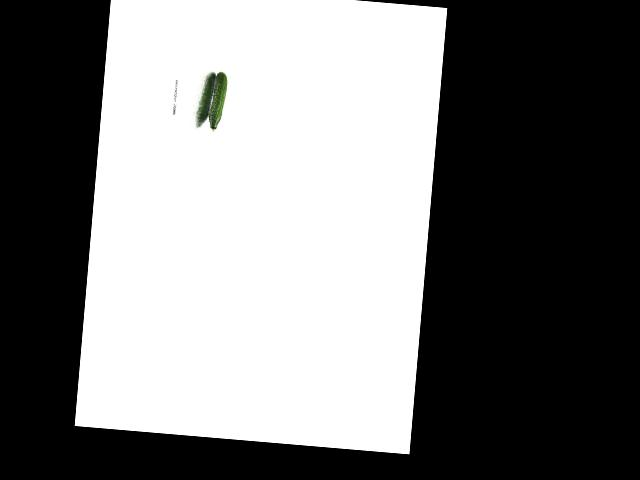cucumber: (207, 71, 228, 132)
